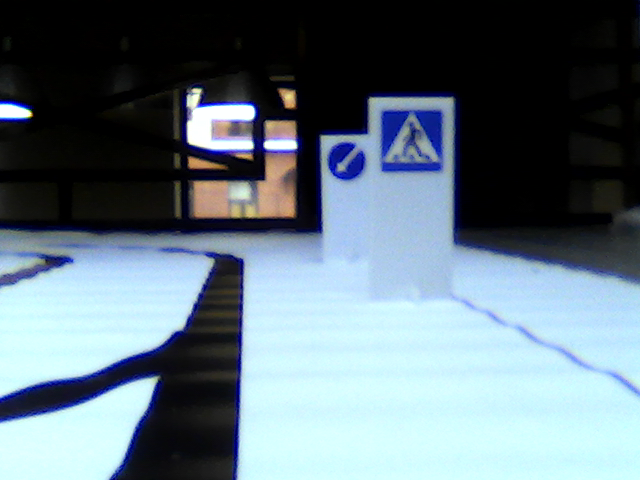pesh: (380, 107, 445, 172)
prep: (324, 140, 365, 181)
